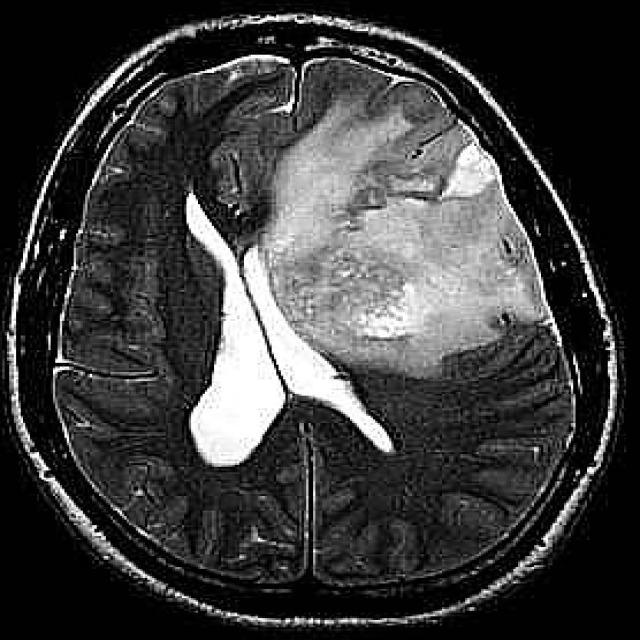Tumor-Cell: (257, 100, 551, 399)
